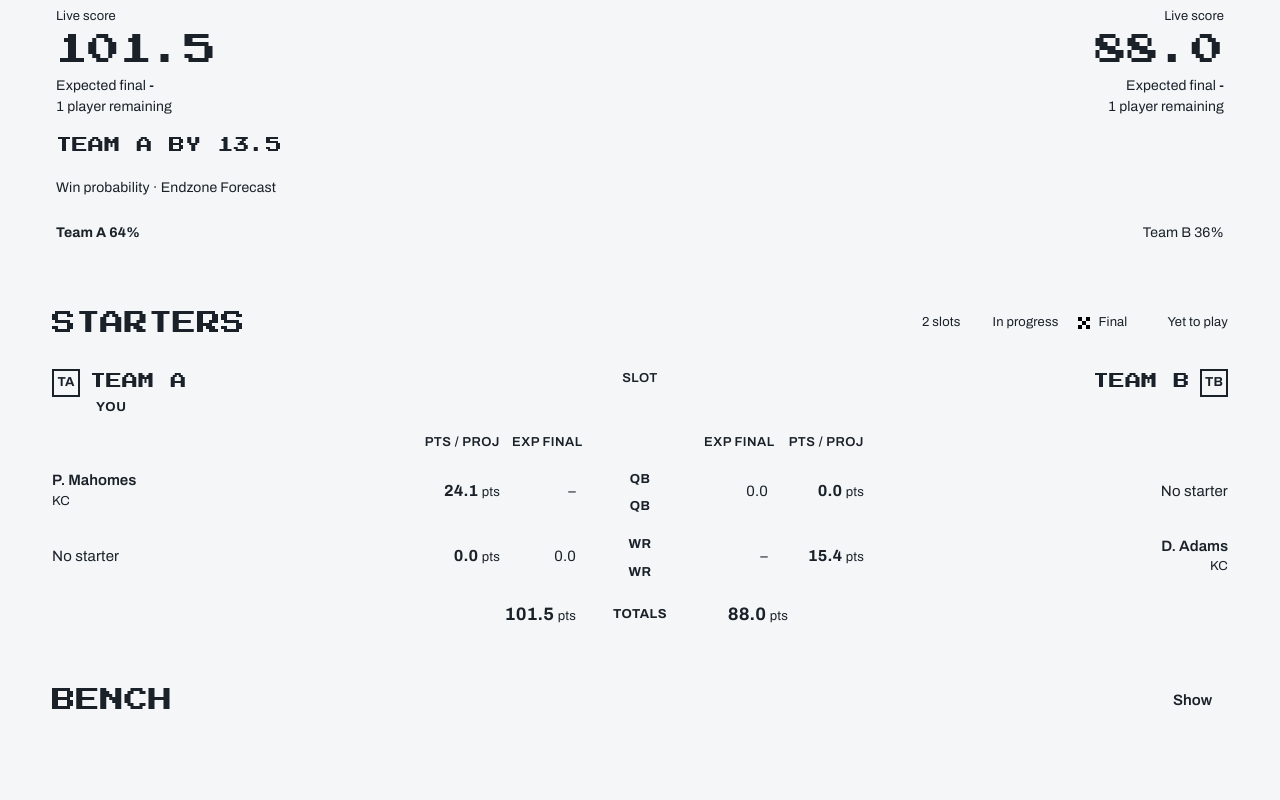
a starter's name opens the Decision card for that player in this league, in my_team context
(page scrolled)
Expected: the element with test id "slot-comparison" is shown, [32,291,1248,640]
Click the button "P. Mahomes": (94, 481) [52,470,136,492]
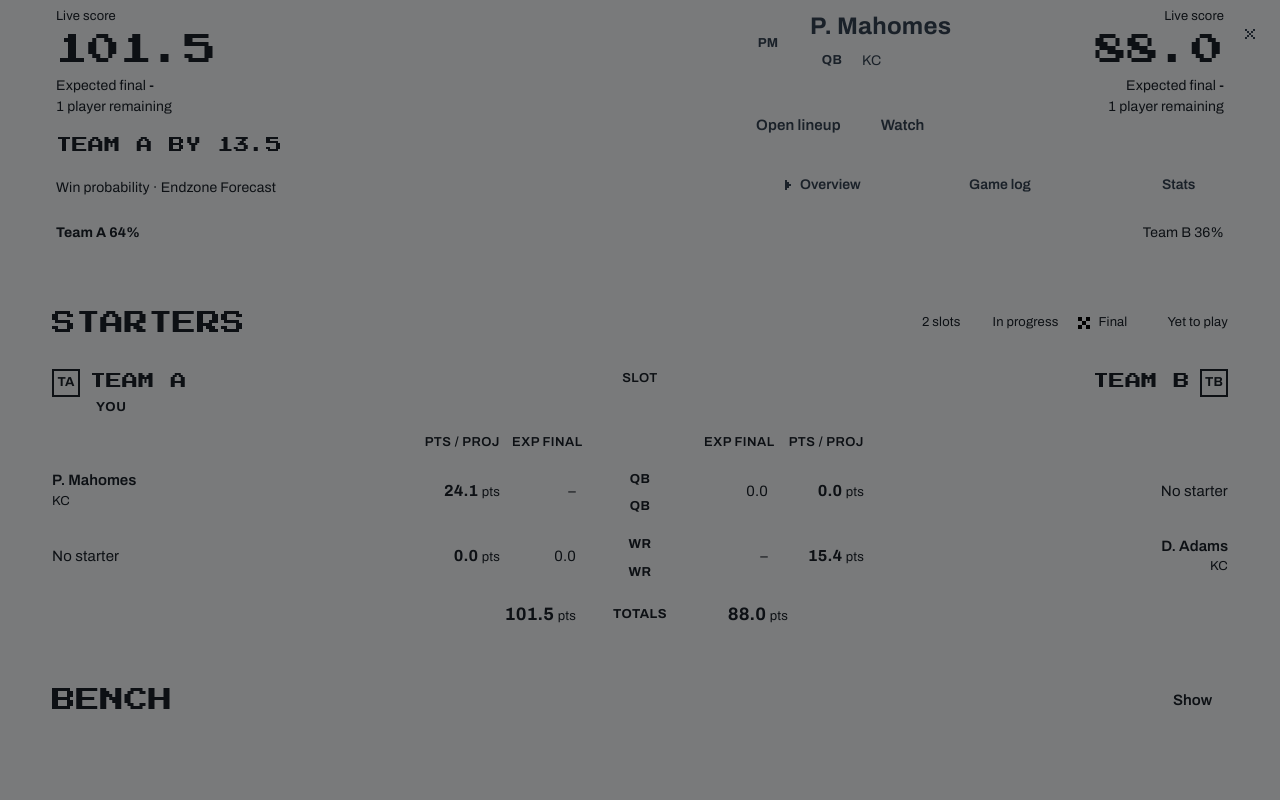
Expected: the dialog with test id "decision-card" is shown, [736,12,1272,207]
